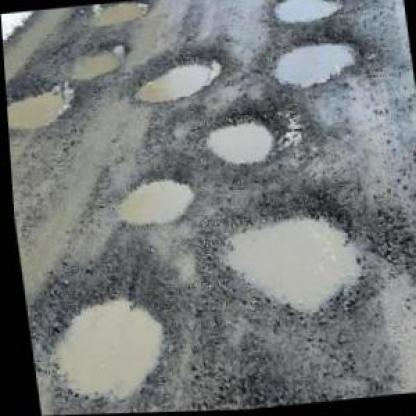pothole: (203, 190, 377, 330), (36, 282, 178, 411), (259, 26, 366, 96), (125, 40, 230, 108), (108, 166, 200, 229), (201, 106, 280, 170), (4, 80, 75, 138), (60, 43, 128, 83), (270, 0, 349, 26)
